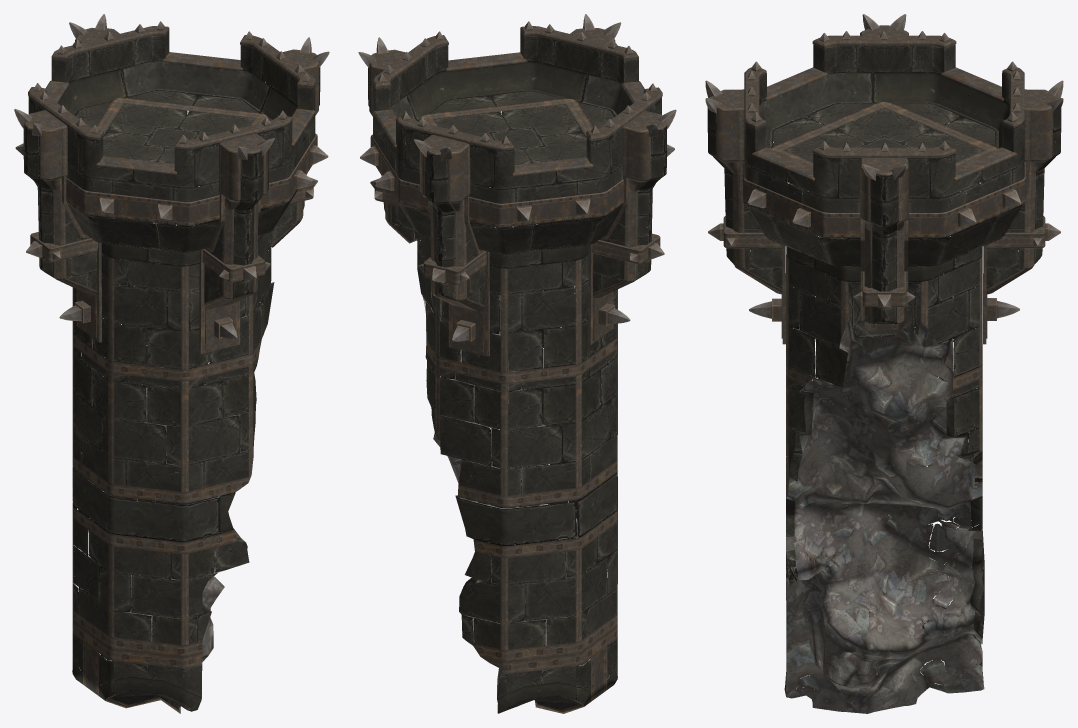
3 renders of one model, left to right at view 1: azimuth 30°, elevation 25°; view 2: azimuth 150°, elevation 25°; view 3: azimuth 270°, elevation 25°, orthographic. The views are drawn at different scales.
Visible parts, largest first — view 1: SM_DR_Corner_Turret_DMG_01_LOD0; view 2: SM_DR_Corner_Turret_DMG_01_LOD0; view 3: SM_DR_Corner_Turret_DMG_01_LOD0.
Boxes of the visible parts, x1=… form: SM_DR_Corner_Turret_DMG_01_LOD0: x1=14, y1=14, x2=329, y2=713; SM_DR_Corner_Turret_DMG_01_LOD0: x1=358, y1=14, x2=676, y2=713; SM_DR_Corner_Turret_DMG_01_LOD0: x1=705, y1=14, x2=1063, y2=713.
Bounding box in the file's own units: 10.77 × 21.04 × 10.77.
6 materials, 6 textured.
